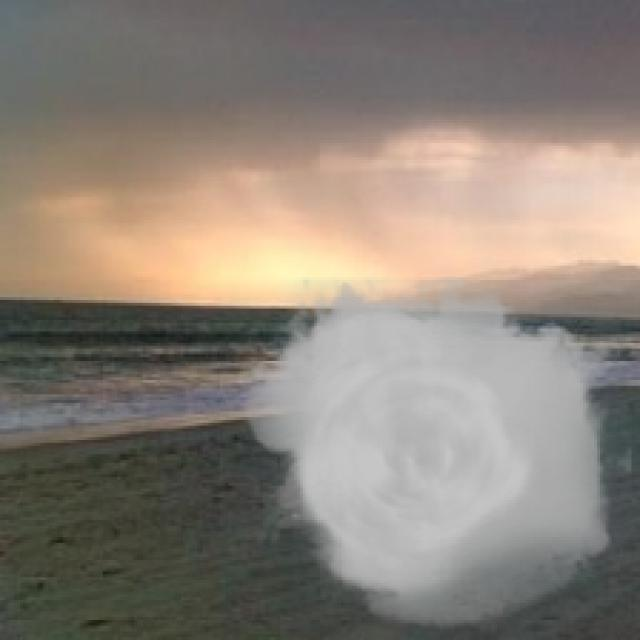Smoke: (228, 277, 632, 629)
